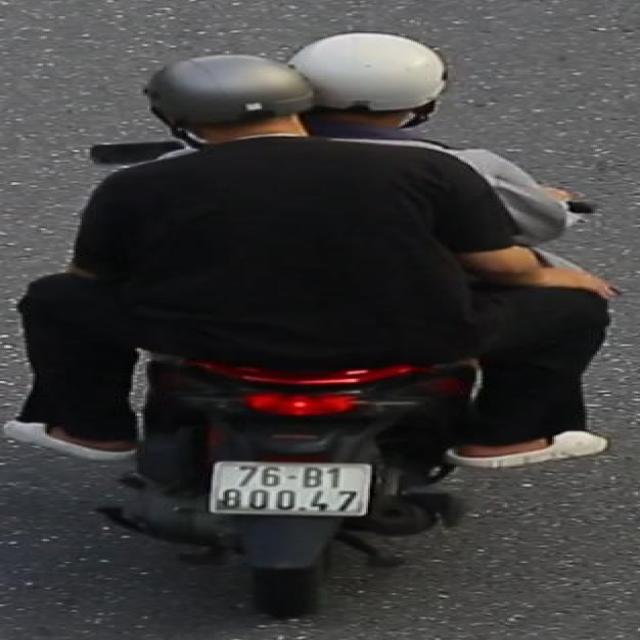LP: (197, 452, 380, 526)
helmet: (143, 51, 323, 135), (299, 32, 451, 122)
